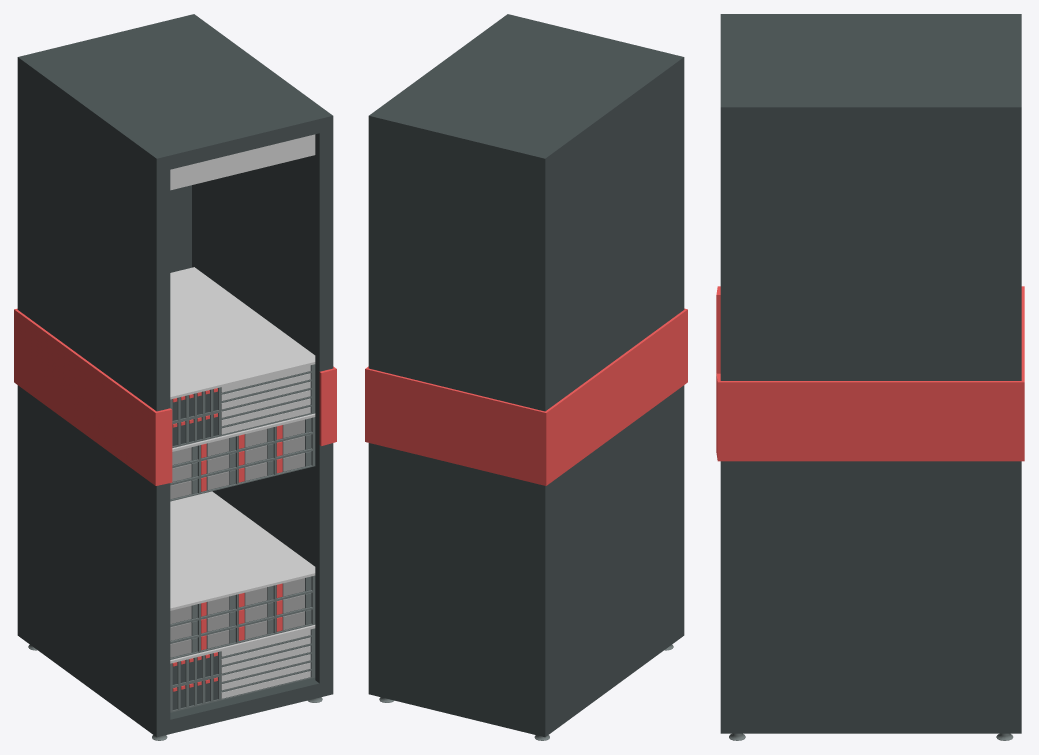
Rendered from server_lvl6.glb.
3 views of the same model, side by side, from view 1: azimuth 30°, elevation 25°; view 2: azimuth 150°, elevation 25°; view 3: azimuth 270°, elevation 25° (orthographic). The views are drawn at different scales.
Visible parts, largest first — view 1: feet, tray2.001, tray1, tray2, tray1.001; view 2: feet; view 3: feet.
Part boxes in pixels (x1,y1,x2,y2): feet: (14, 14, 336, 740); tray2.001: (170, 267, 315, 447); tray1: (170, 491, 315, 659); tray2: (170, 625, 315, 712); tray1.001: (170, 413, 315, 501); feet: (365, 14, 687, 740); feet: (716, 14, 1024, 740).
Size of the model in its own units: 0.1535 by 0.4757 by 0.2089.
2 materials, 1 textured.
